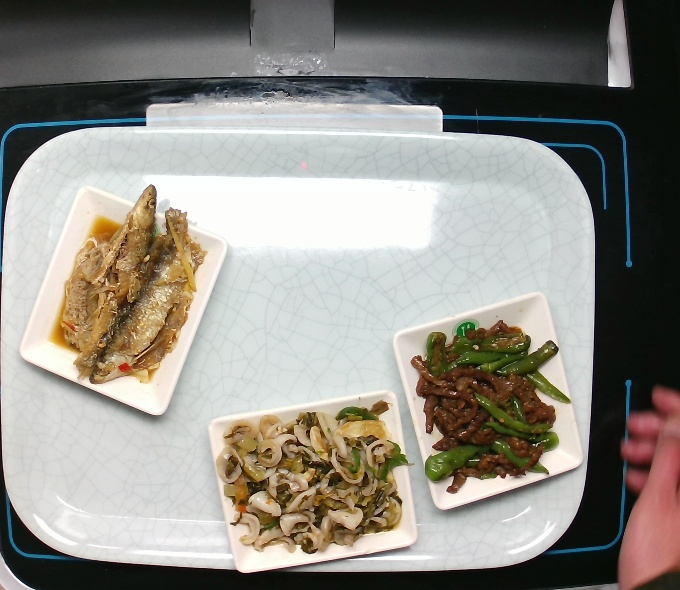wcq-QingJiaoNiuRou: (402, 313, 573, 503)
wcq-XiaoXiYu: (48, 178, 215, 396)
wcq-XueCaiYouYu: (205, 391, 408, 568)
